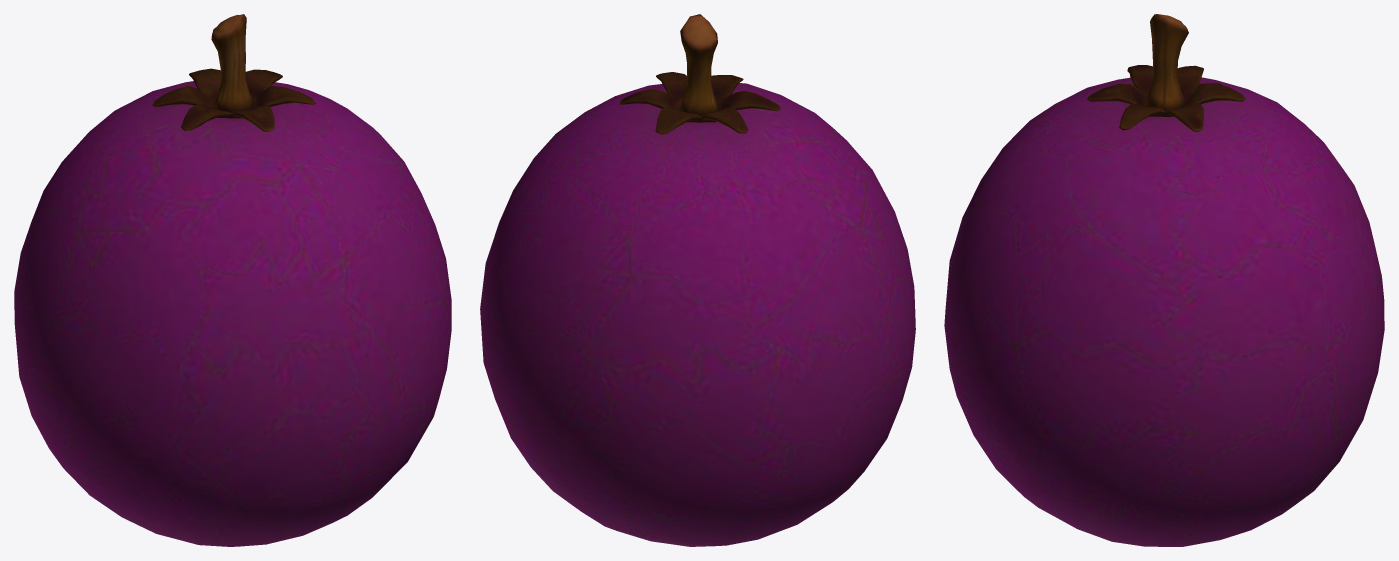
File: b05_passionfruit.glb
The picture shows the model from 3 angles, left to right: view 1: azimuth 30°, elevation 25°; view 2: azimuth 150°, elevation 25°; view 3: azimuth 270°, elevation 25°; orthographic projection.
Visible parts, largest first — view 1: geometry_0; view 2: geometry_0; view 3: geometry_0.
Boxes of the visible parts, <box> form: geometry_0: <box>14,14,451,546</box>; geometry_0: <box>480,14,915,546</box>; geometry_0: <box>944,14,1384,546</box>.
Bounding box in the file's own units: 0.7378 × 0.9507 × 0.7363.
Materials: 1 (1 with a texture image).
